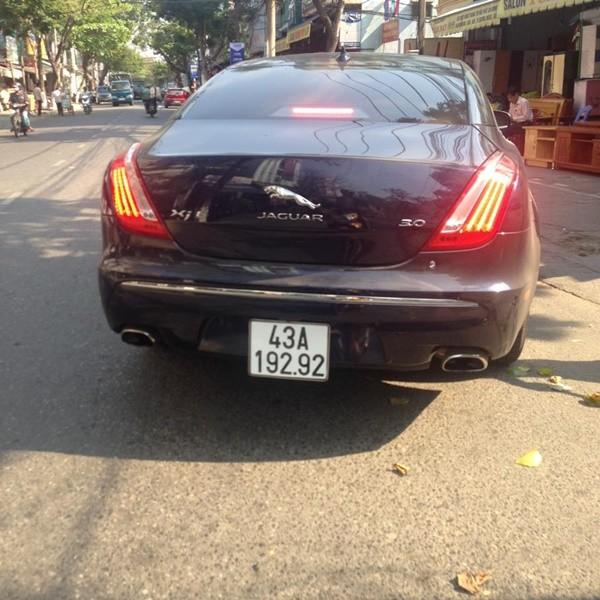numplate: (247, 317, 330, 378)
